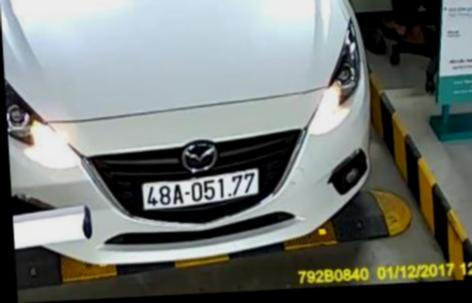License_Plate: (136, 168, 265, 215)
